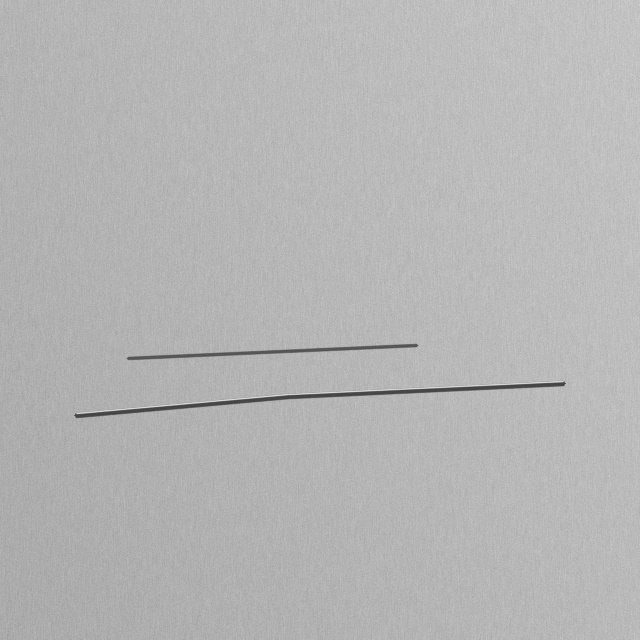scratches: (80, 100, 560, 550)
